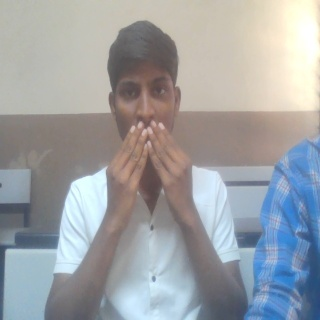Thank You: (105, 121, 195, 232)
